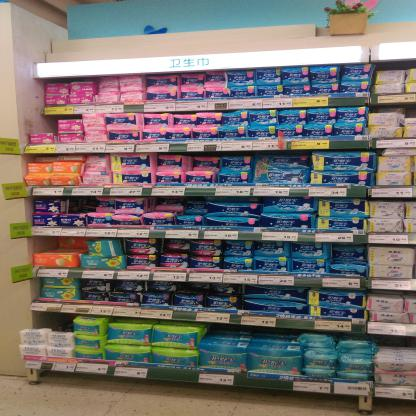Void: (36, 239, 86, 252), (36, 316, 74, 329), (27, 117, 53, 133), (70, 200, 93, 212)
